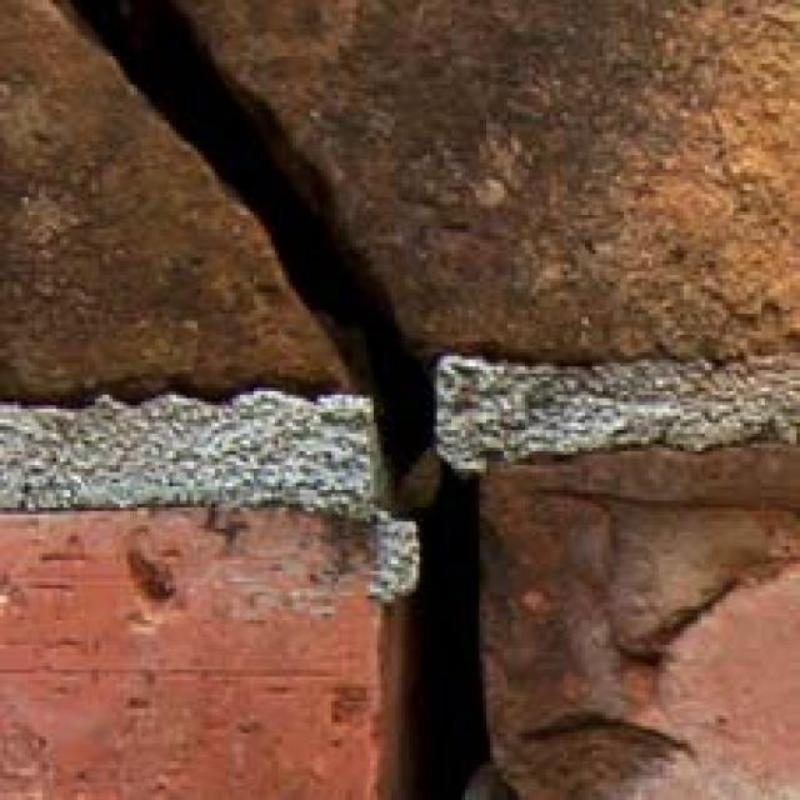pothole: (64, 0, 489, 800)
